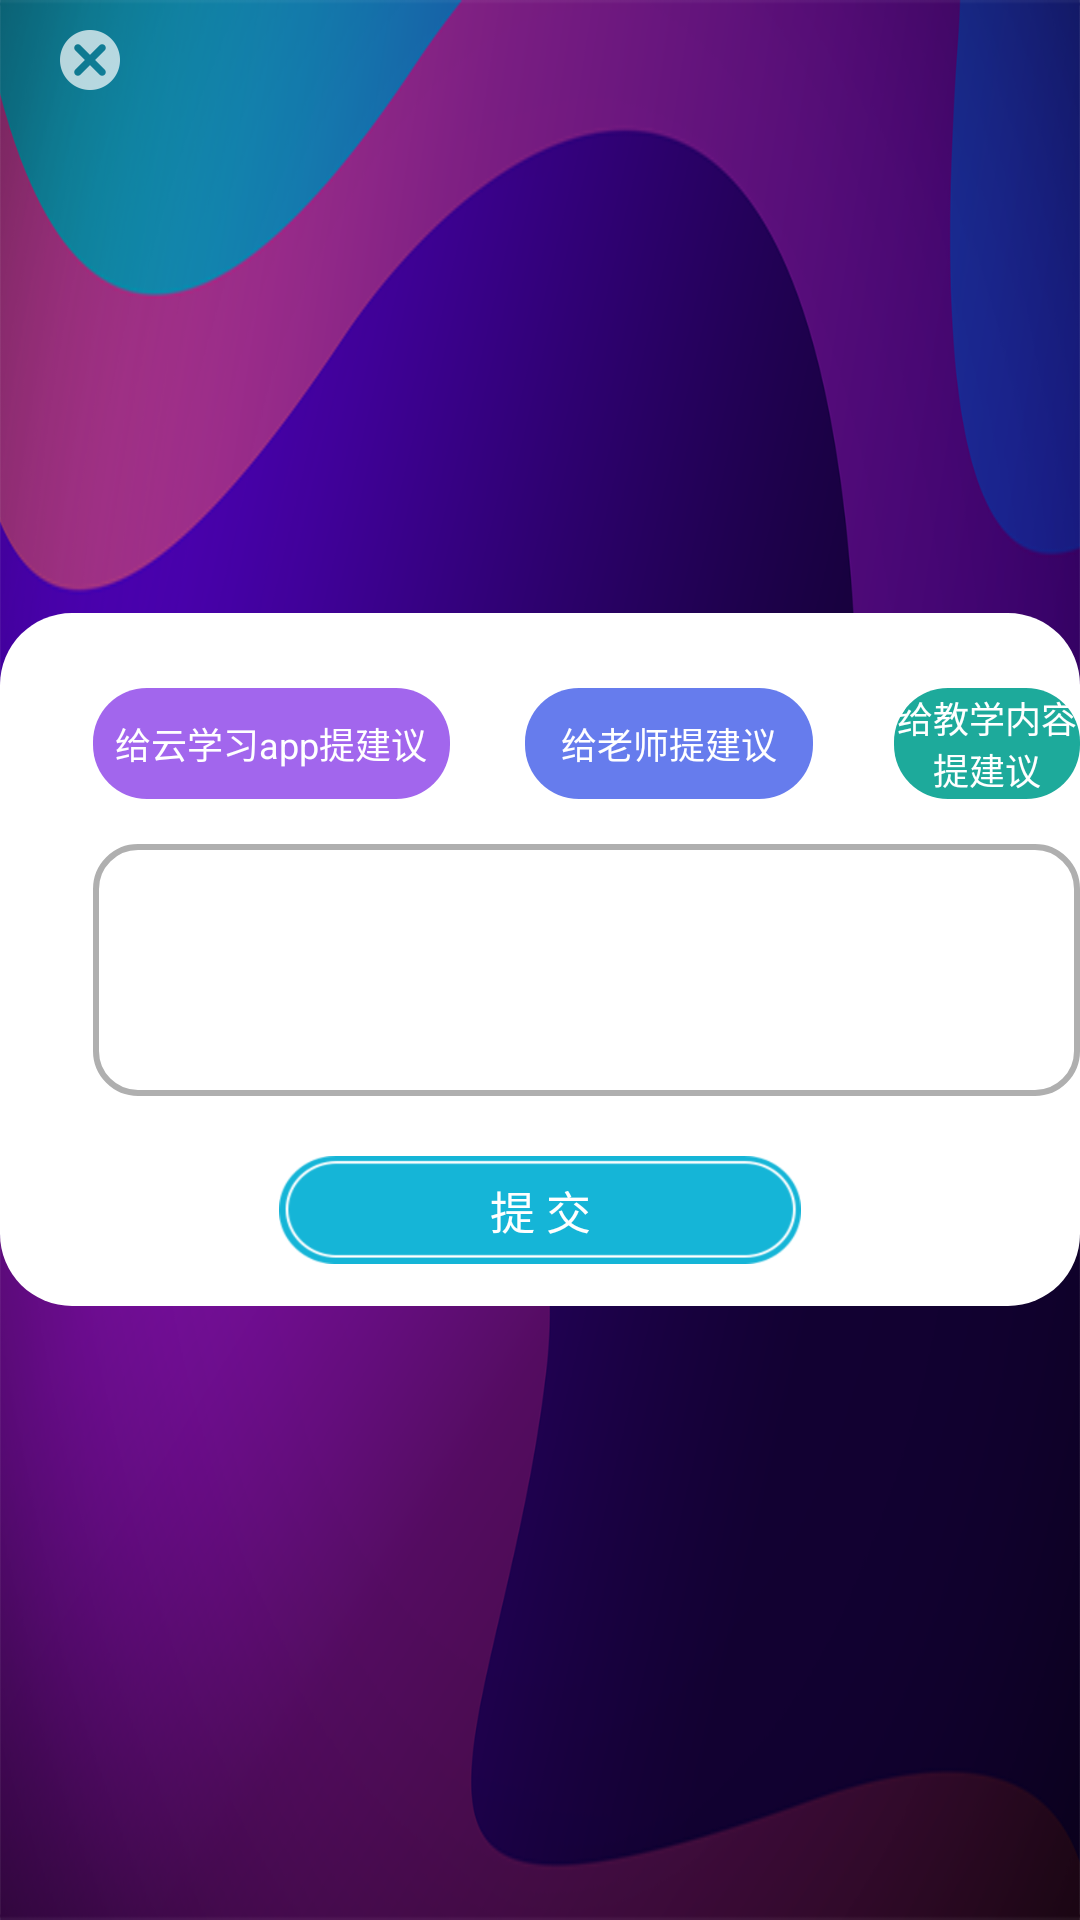

Icon click points for this 1080x1920 phone screenshot, format (x=x, y=y):
close: (x=105, y=60)
